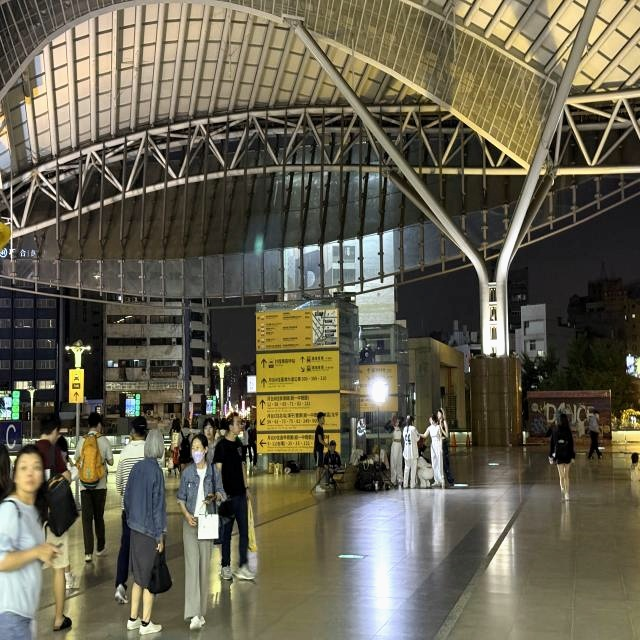Sin_Casco_Mascarrilla: (146, 429, 165, 459), (191, 435, 209, 463), (229, 412, 243, 436), (204, 418, 216, 440), (317, 412, 326, 425)
